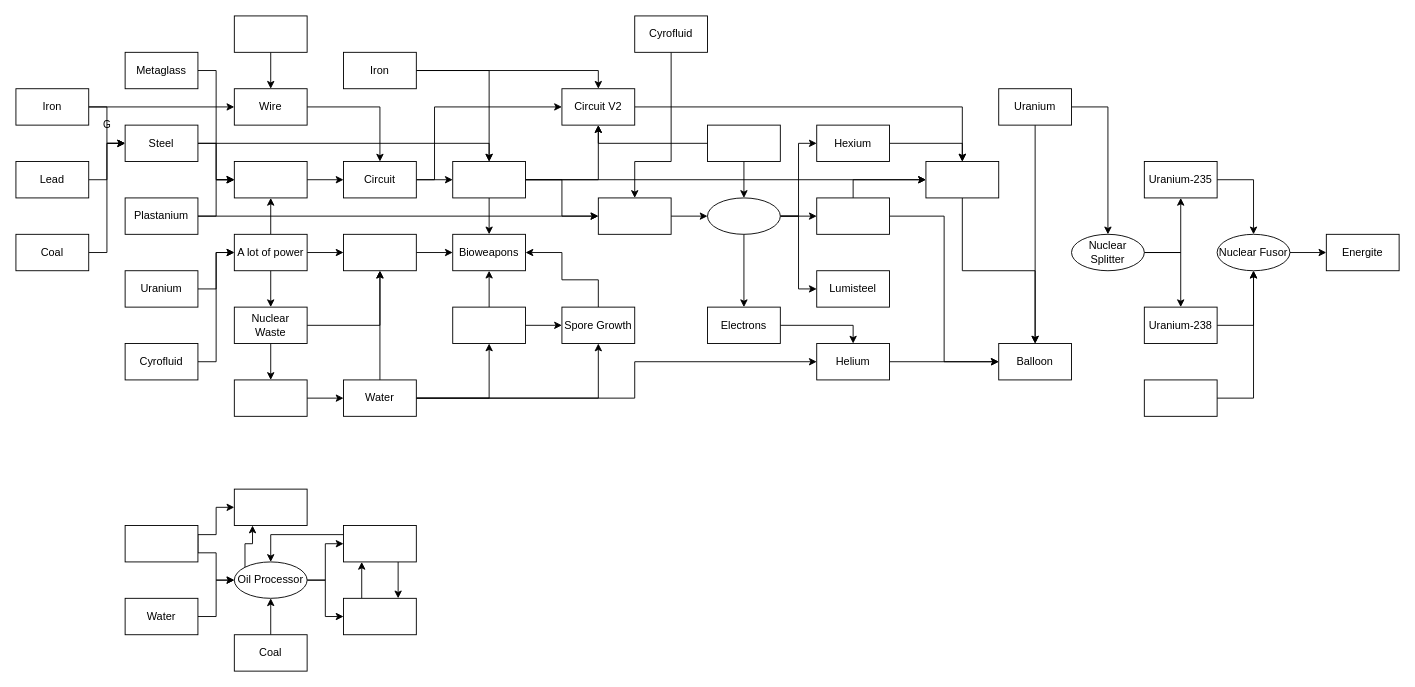
This 1415x687 diagram has some shape labels left out. The centre of each missing label's shape, as x and y in pixels:
"Acid" belongs at pixel 379 252.
"Circuit V3" belongs at pixel 962 179.
"Copper" belongs at pixel 270 33.
"D2-Alloy" belongs at pixel 634 215.
"Forceglass" belongs at pixel 270 179.
"Fusion Reactor" belongs at pixel 743 215.
"Fusorite" belongs at pixel 853 215.
"General Use Components" belongs at pixel 489 179.
"Graphite" belongs at pixel 743 143.
"Heavy Oil" belongs at pixel 379 543.
"Light Oil" belongs at pixel 379 616.
"Oil" belongs at pixel 161 543.
"Petroleum" belongs at pixel 270 507.
"Slag" belongs at pixel 270 397.
"Spore Pod" belongs at pixel 489 325.
"Thorium" belongs at pixel 1180 397.
